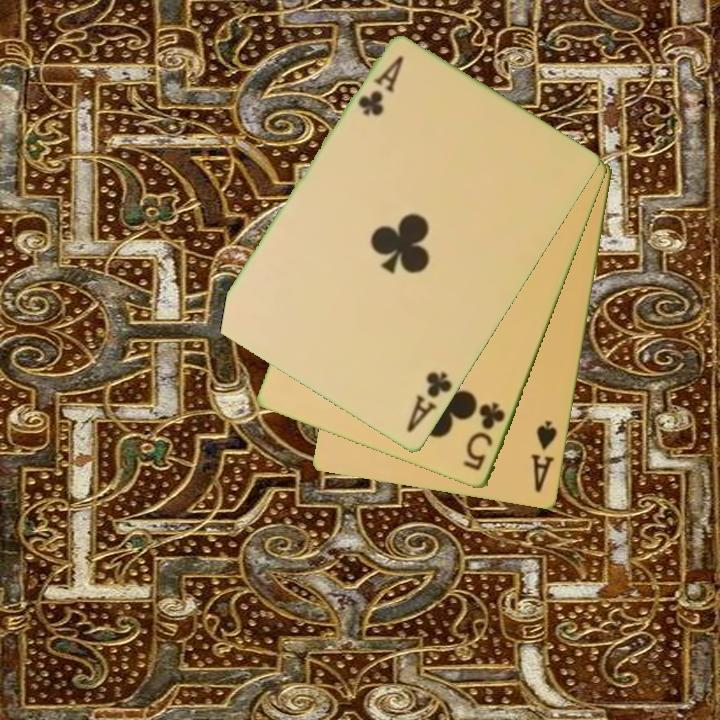5c: (460, 399, 509, 474)
Ac: (403, 368, 456, 436), (354, 52, 407, 120)
As: (527, 417, 560, 496)
